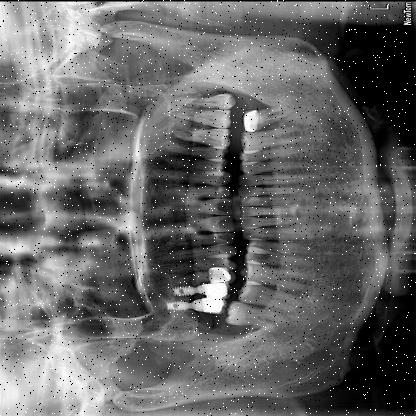Bicon: (161, 298, 195, 311), (165, 283, 198, 296)
